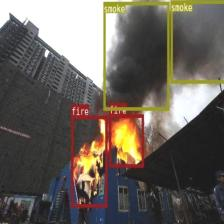fire: (70, 115, 106, 207), (109, 114, 143, 167)
smoke: (103, 1, 169, 110), (170, 0, 224, 83)
